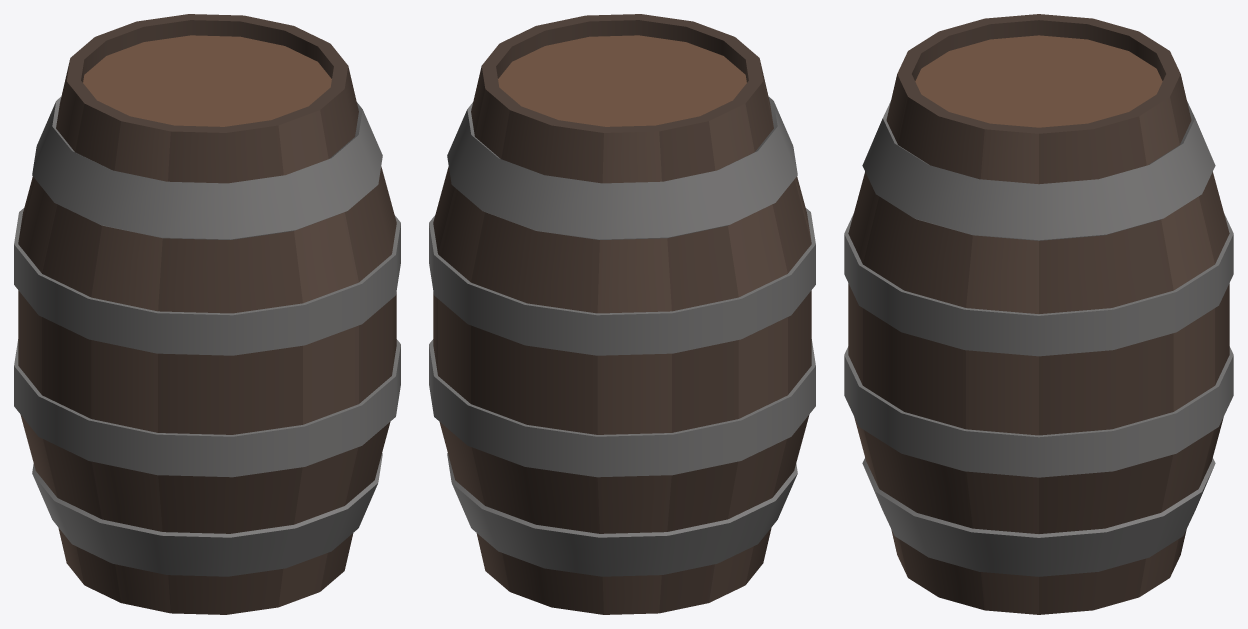
The model's file is mesh_barrel.fbx.
3 views of the same model, side by side, from view 1: azimuth 30°, elevation 25°; view 2: azimuth 150°, elevation 25°; view 3: azimuth 270°, elevation 25° (orthographic).
Parts seen in each view (by area): view 1: pCylinder1; view 2: pCylinder1; view 3: pCylinder1.
Part boxes in pixels (<box>): pCylinder1: <box>14,14,400,614</box>; pCylinder1: <box>429,14,815,614</box>; pCylinder1: <box>844,14,1233,614</box>.
Size of the model in its own units: 71.98 by 98.08 by 71.98.
